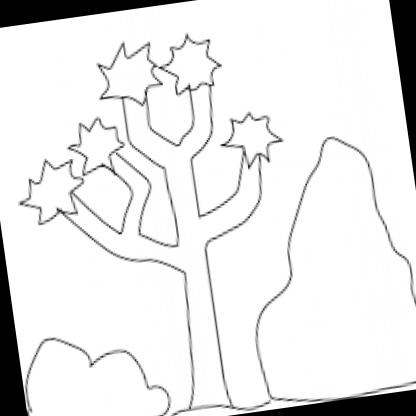branch_cut: (40, 80, 274, 288)
root_none: (175, 381, 248, 416)
trunk_straight: (176, 270, 230, 398)
